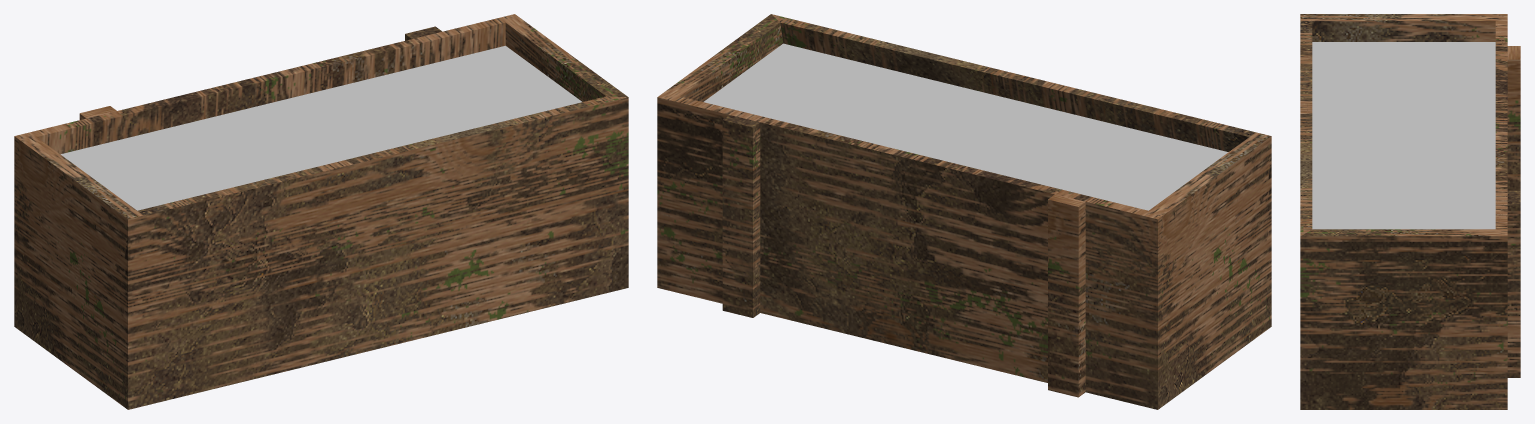
The model's file is m_flowerBox.fbx.
3 views of the same model, side by side, from view 1: azimuth 30°, elevation 25°; view 2: azimuth 150°, elevation 25°; view 3: azimuth 270°, elevation 25° (orthographic). The views are drawn at different scales.
Visible parts, largest first — view 1: pCube342; view 2: pCube342; view 3: pCube342.
Part boxes in pixels (x1=…): pCube342: x1=14, y1=14, x2=628, y2=409; pCube342: x1=657, y1=14, x2=1271, y2=409; pCube342: x1=1300, y1=14, x2=1520, y2=409.
Bounding box in the file's own units: 448 × 163 × 187.
